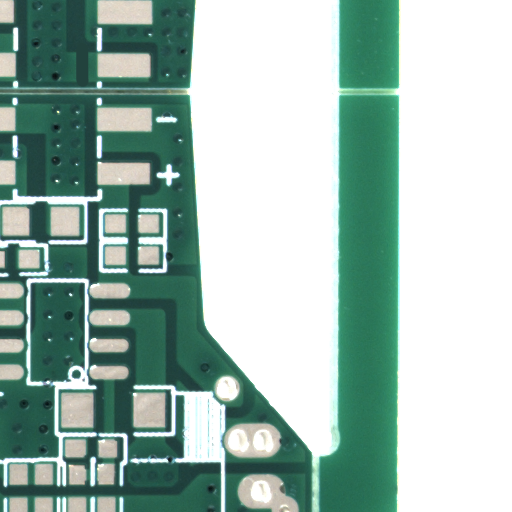Open_circuit: (82, 67, 97, 102)
